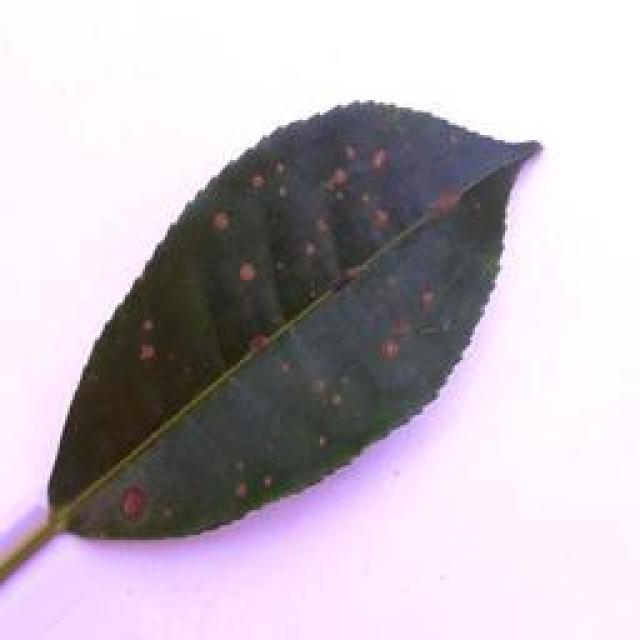Algal Leaf Spot: (47, 103, 538, 542)
